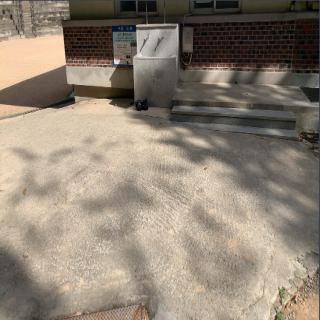Garbage: (141, 97, 149, 110), (134, 99, 143, 110)
